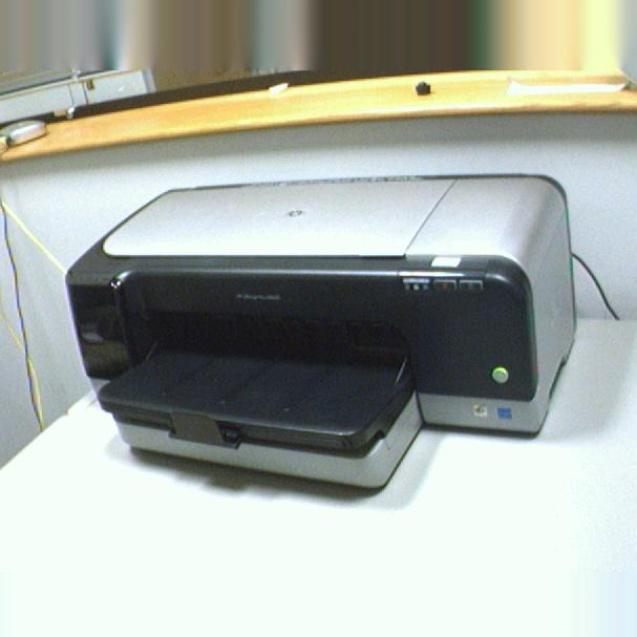Printer: (64, 172, 577, 488)
